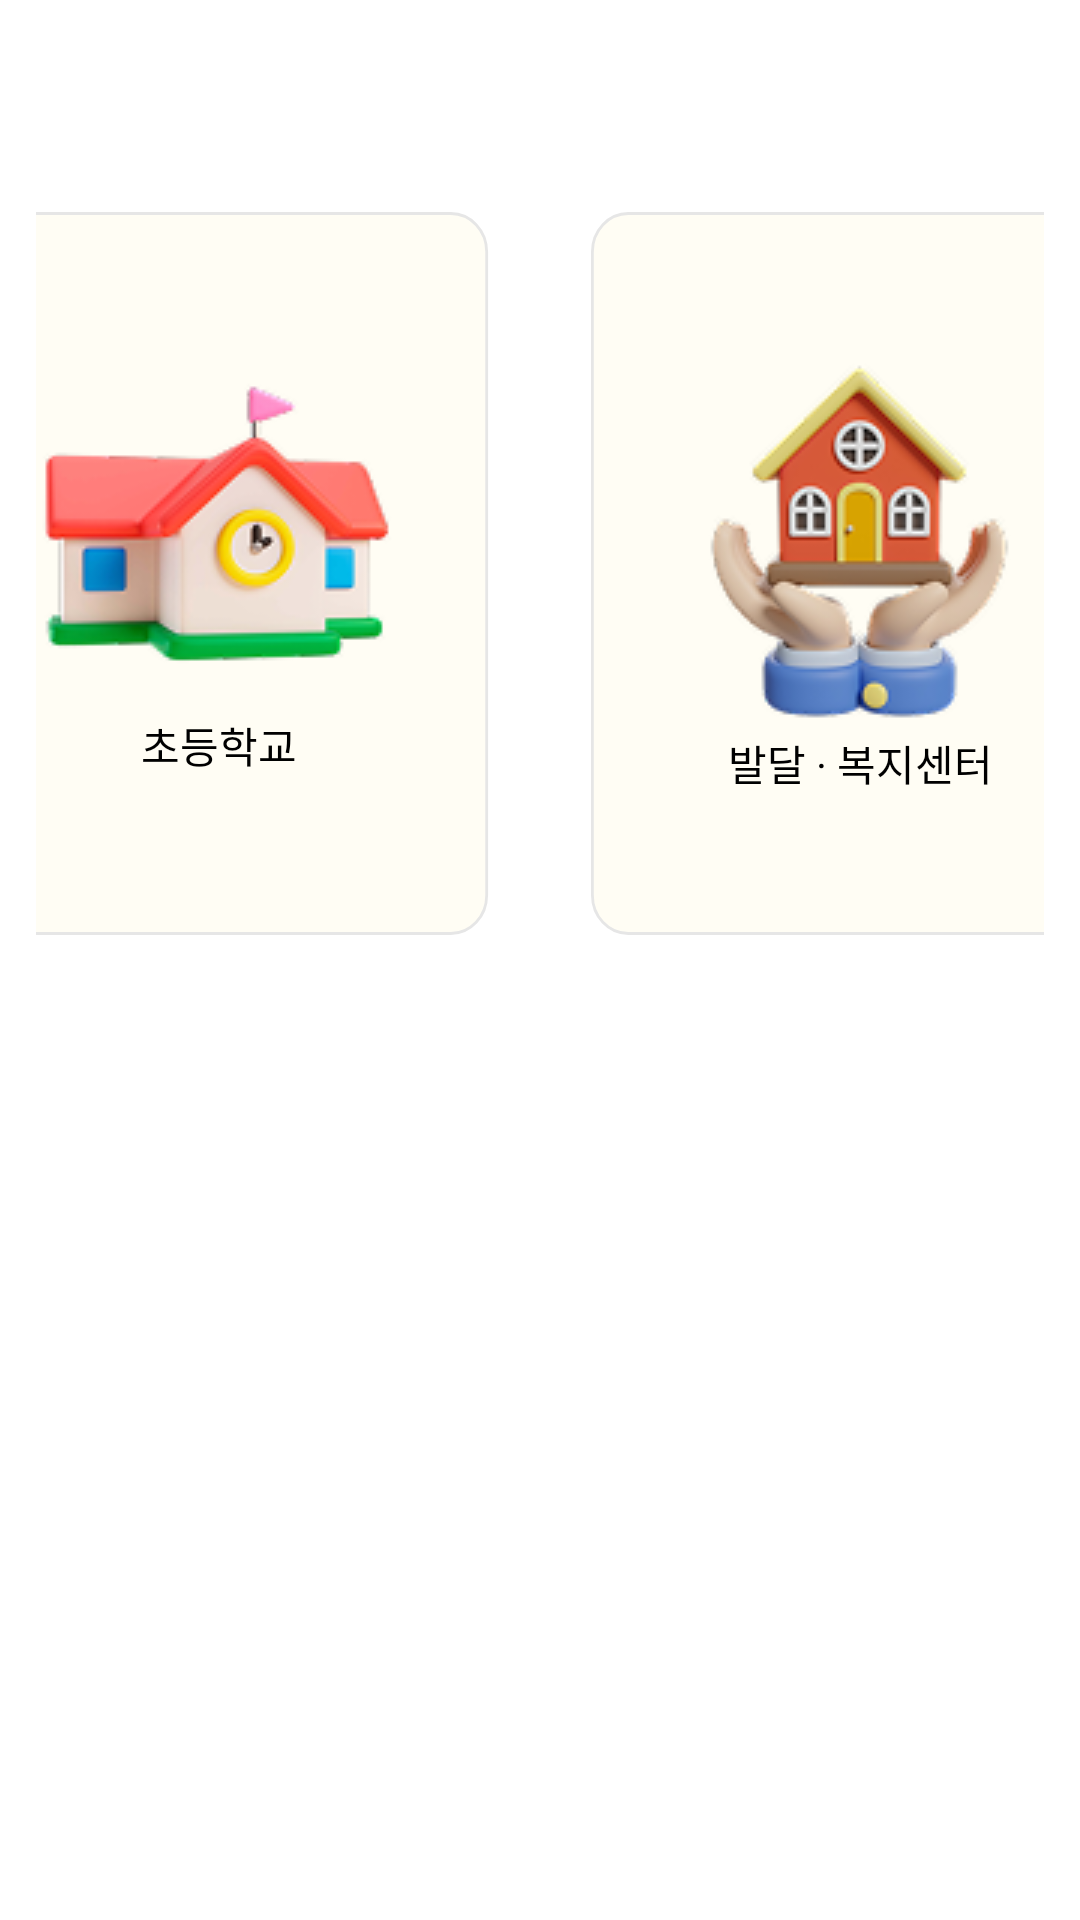

Icons on this 1080x1920 Android screen, each with its box as bbox(x1, y1, x2, y2):
building: bbox(711, 367, 1008, 718)
